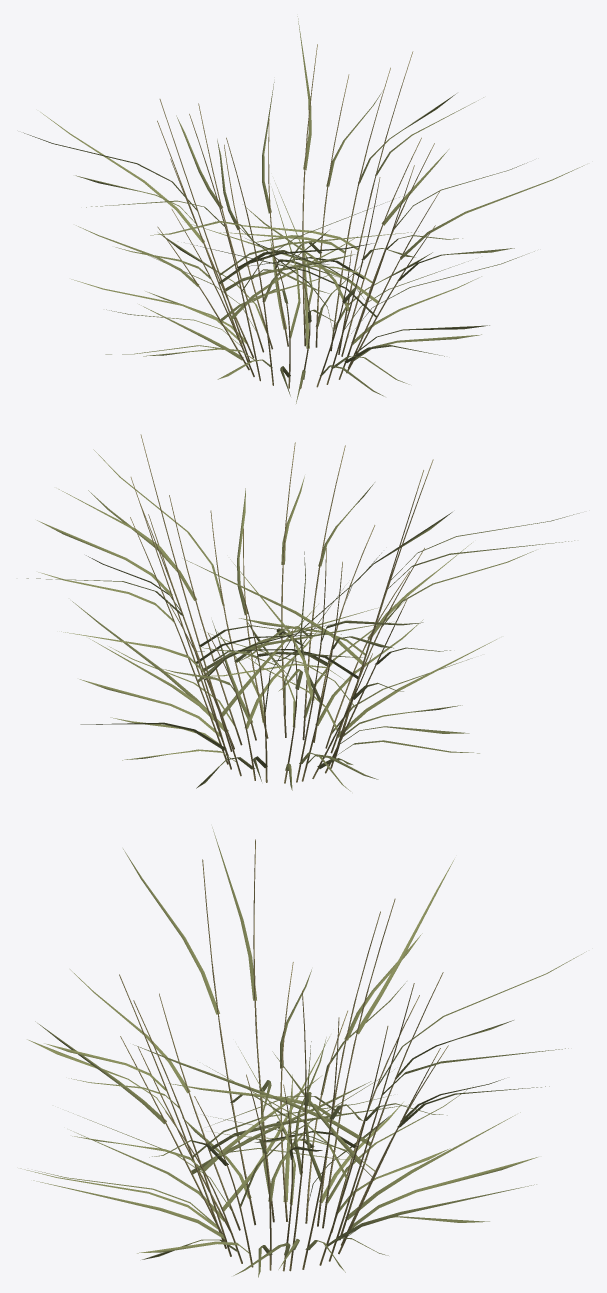
File: Herbes_1_Niveau0.fbx
3 renders of one model, top to bottom at view 1: azimuth 30°, elevation 25°; view 2: azimuth 150°, elevation 25°; view 3: azimuth 270°, elevation 25°, orthographic. The views are drawn at different scales.
Parts seen in each view (by area): view 1: Herbes_1_Niveau0; view 2: Herbes_1_Niveau0; view 3: Herbes_1_Niveau0.
Part boxes in pixels (bbox=[...]): Herbes_1_Niveau0: bbox=[23, 16, 584, 403]; Herbes_1_Niveau0: bbox=[26, 434, 579, 791]; Herbes_1_Niveau0: bbox=[20, 827, 586, 1277].
Bounding box in the file's own units: 72.9 × 41.95 × 64.96.
